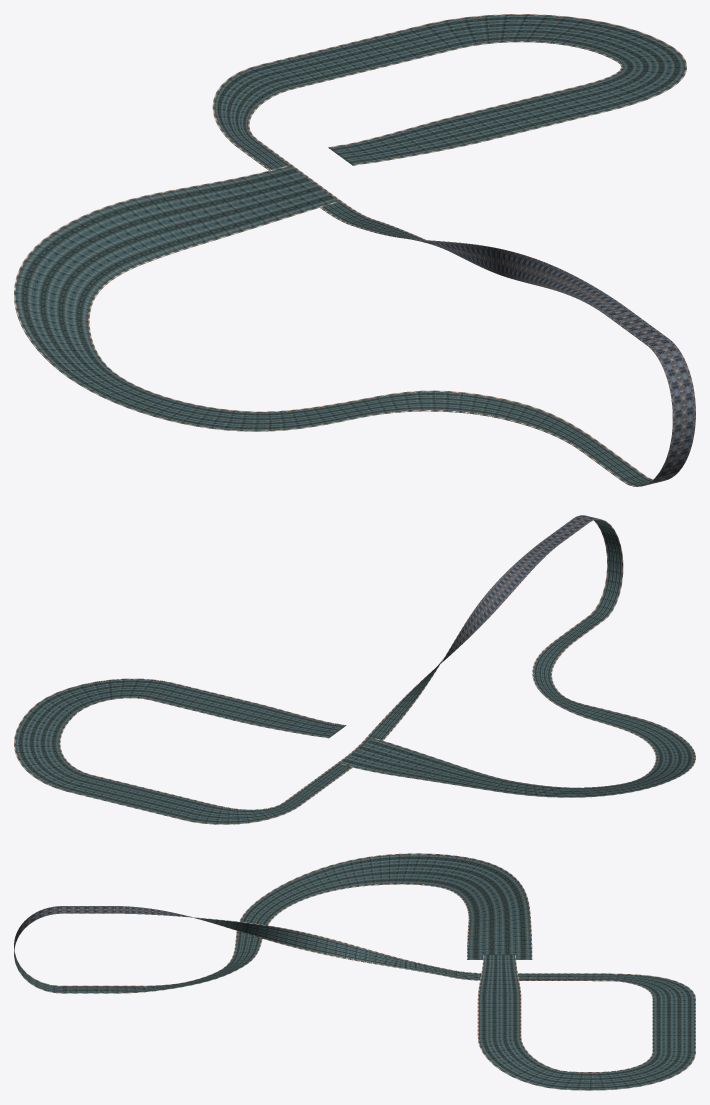
Rendered from Track.obj.
3 views of the same model, one above another, from view 1: azimuth 30°, elevation 25°; view 2: azimuth 150°, elevation 25°; view 3: azimuth 270°, elevation 25° (orthographic). The views are drawn at different scales.
Bounding box in the file's own units: 2149 × 364 × 2501.
4 materials, 4 textured.
